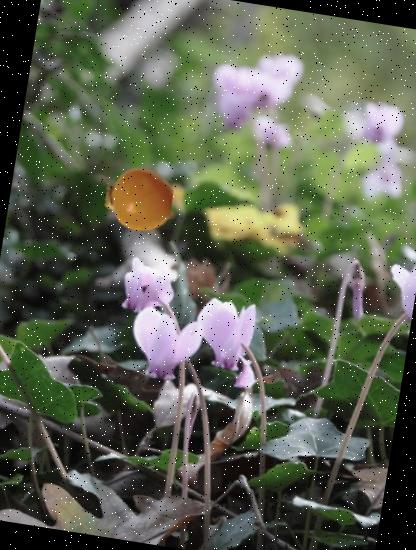Physalis: (99, 160, 178, 239)
